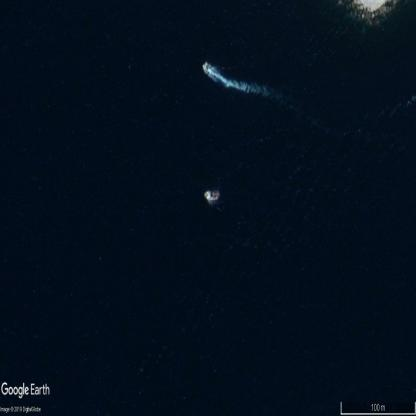ship: (204, 190, 220, 200), (203, 64, 209, 72)
